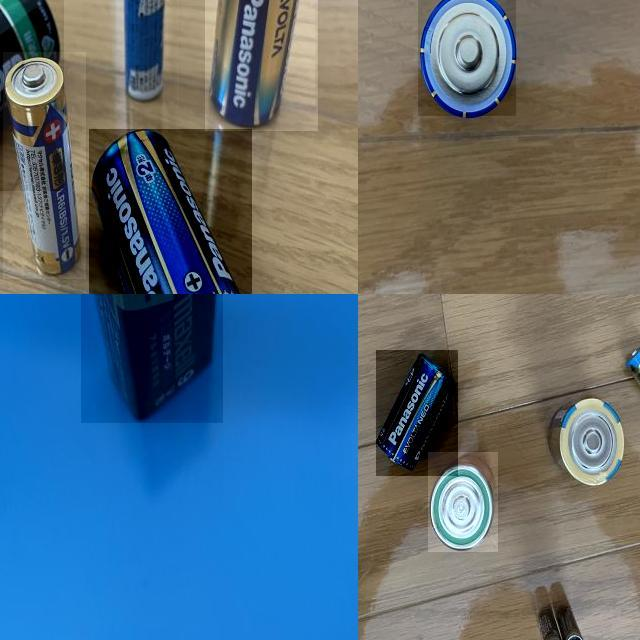9V: (81, 294, 222, 422)
